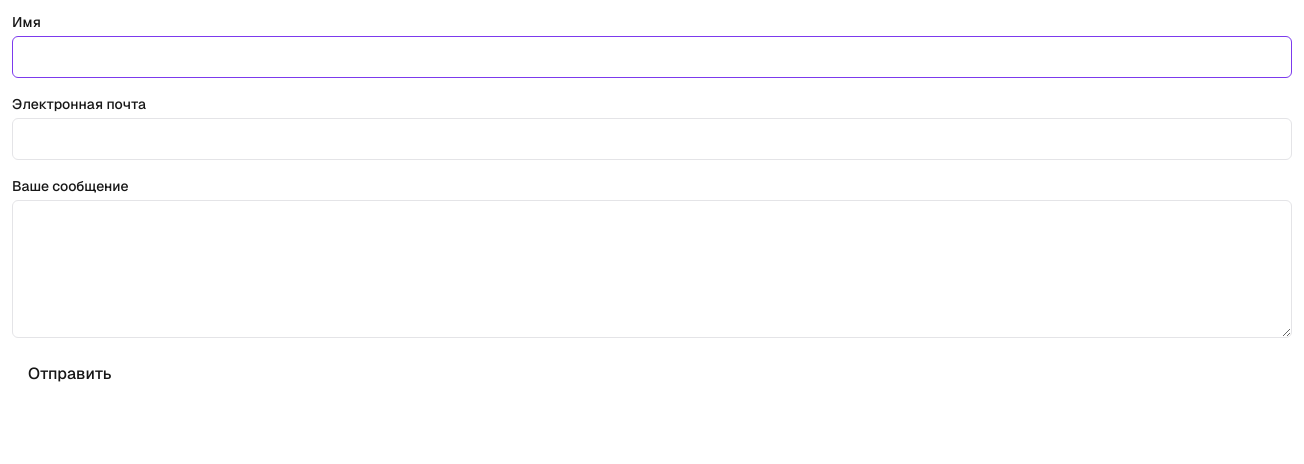
Test: ContactForm › shows the failure alert for a serverError
Type "Анна" into the field labelled "Имя" at (652, 57), box [12,36,1292,78]
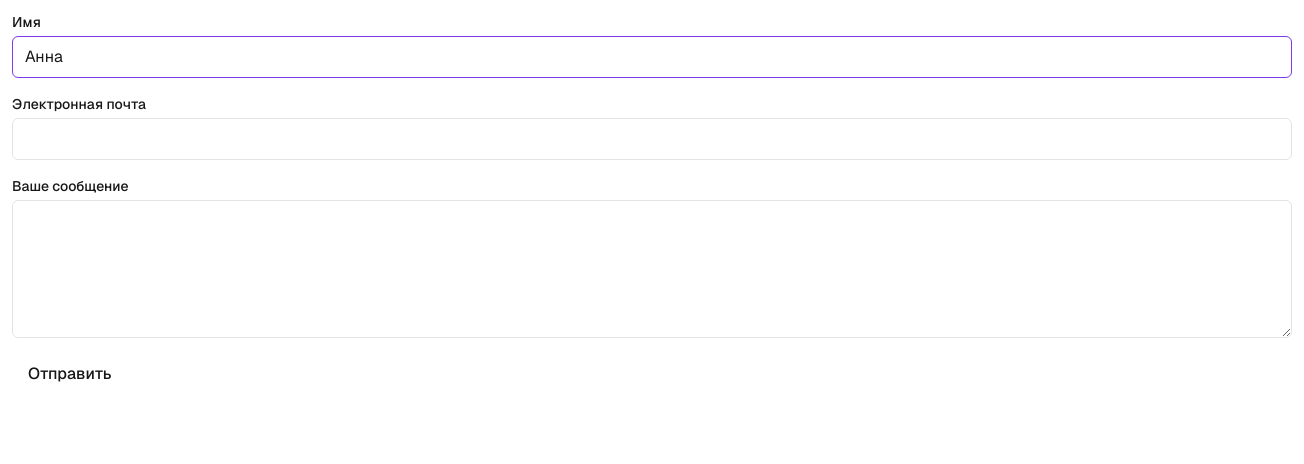
Type "anna@example.com" into the field labelled "Электронная почта" at (652, 139), box [12,118,1292,160]
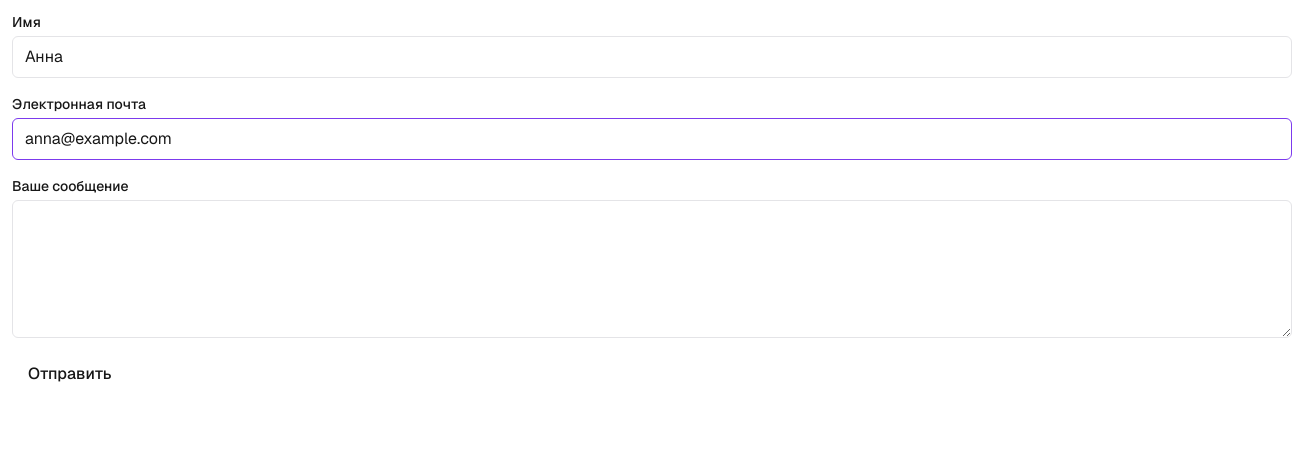
Click the button "Отправить" at (70, 374), box [12,354,128,394]
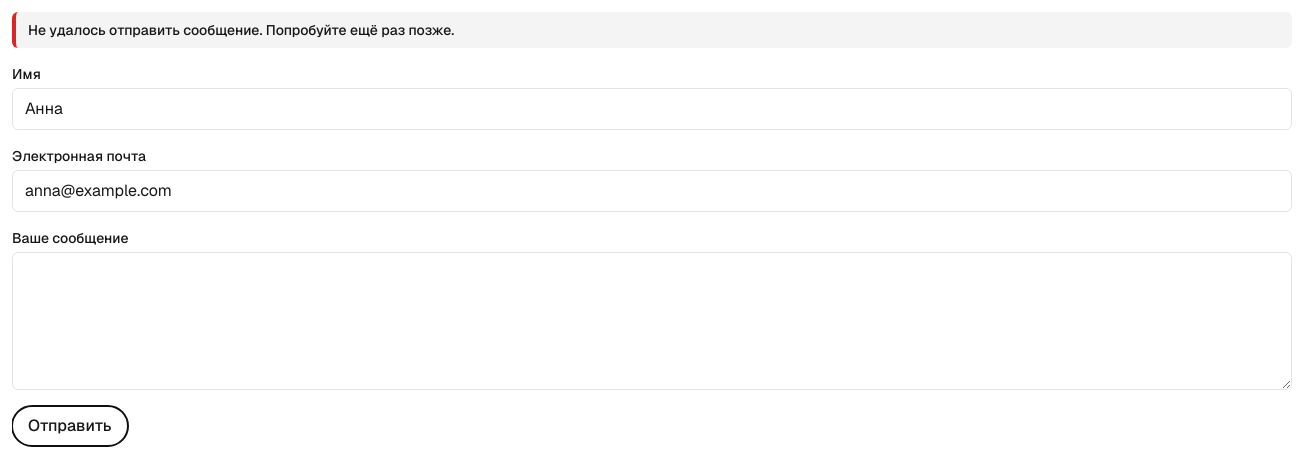
Now the message reads "Не удалось отправить сообщение. Попробуйте ещё раз позже.", box [28,21,454,39]
